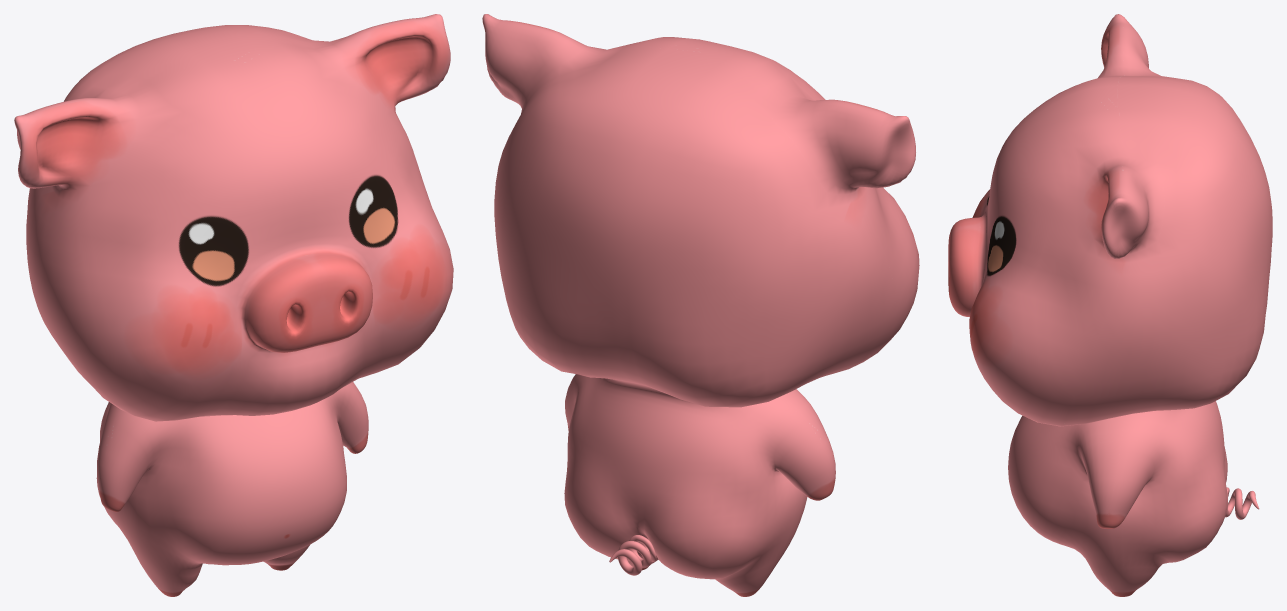
The model's file is pig.glb.
3 views of the same model, side by side, from view 1: azimuth 30°, elevation 25°; view 2: azimuth 150°, elevation 25°; view 3: azimuth 270°, elevation 25° (orthographic). The views are drawn at different scales.
Parts seen in each view (by area): view 1: Pig Body; view 2: Pig Body; view 3: Pig Body.
Part boxes in pixels (bbox=[...]): Pig Body: bbox=[14, 14, 453, 596]; Pig Body: bbox=[482, 14, 919, 596]; Pig Body: bbox=[948, 14, 1272, 596].
Bounding box in the file's own units: 2.13 × 2.49 × 1.55.
1 material, 1 textured.
